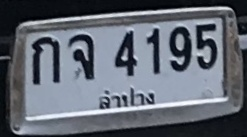txt01: (30, 35, 61, 87)
txt06: (67, 32, 96, 82)
